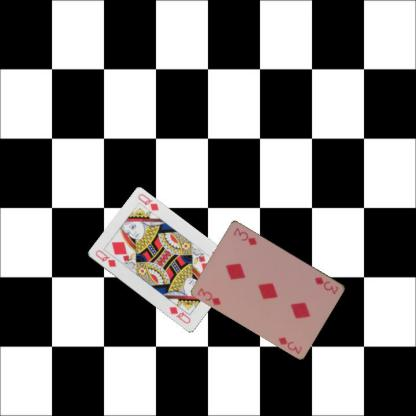3d: (195, 285, 222, 307), (312, 274, 340, 295)
Qd: (92, 247, 118, 268)
